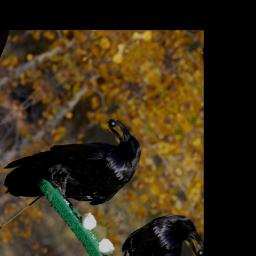Crow: (0, 90, 154, 251)
